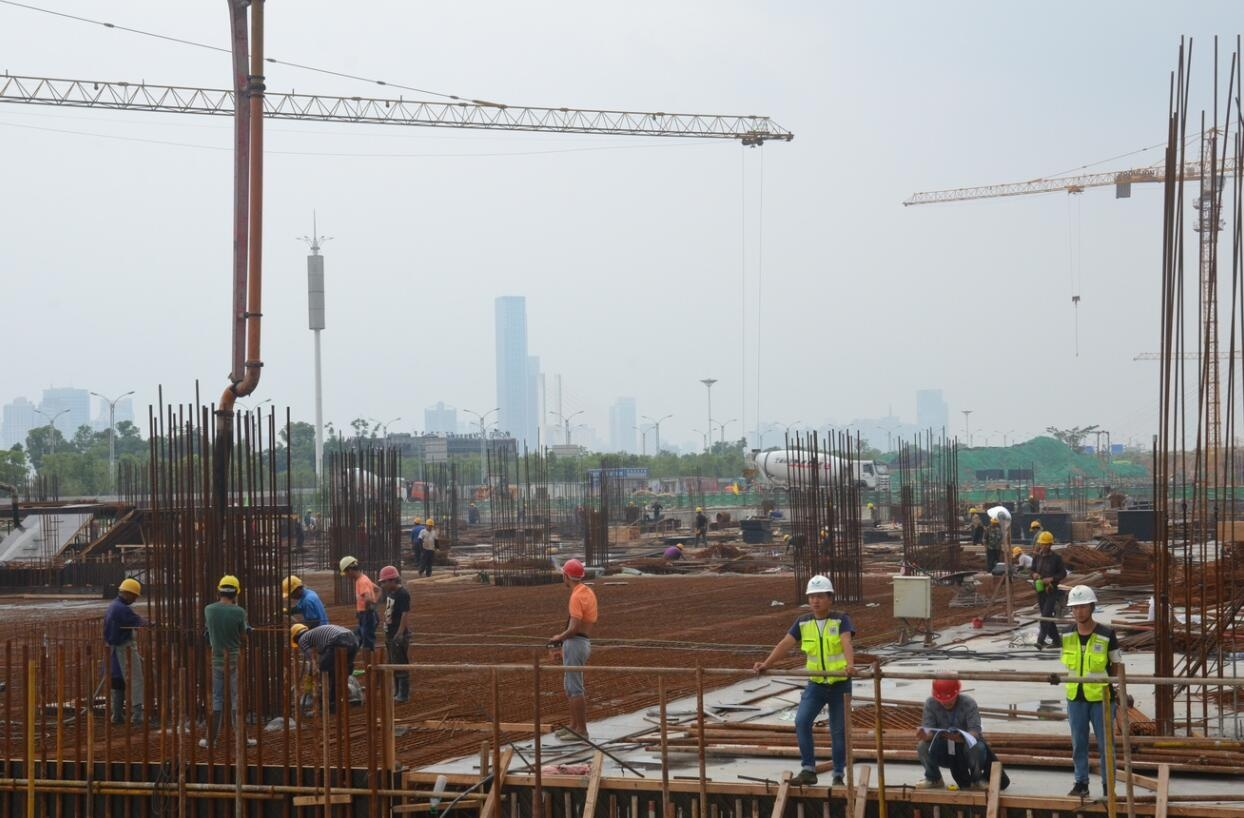red: (927, 672, 962, 710), (377, 563, 401, 591), (561, 558, 585, 586)
white: (1065, 583, 1098, 626), (805, 575, 834, 612)
yellow: (117, 578, 141, 604), (217, 574, 241, 600), (286, 621, 310, 647), (281, 574, 304, 601), (339, 555, 361, 578), (1037, 530, 1054, 551), (1011, 546, 1023, 559), (1029, 520, 1040, 533), (424, 517, 434, 529), (989, 517, 999, 526), (676, 542, 684, 551), (694, 505, 702, 513), (414, 516, 421, 525), (783, 533, 790, 541), (968, 508, 975, 515)
